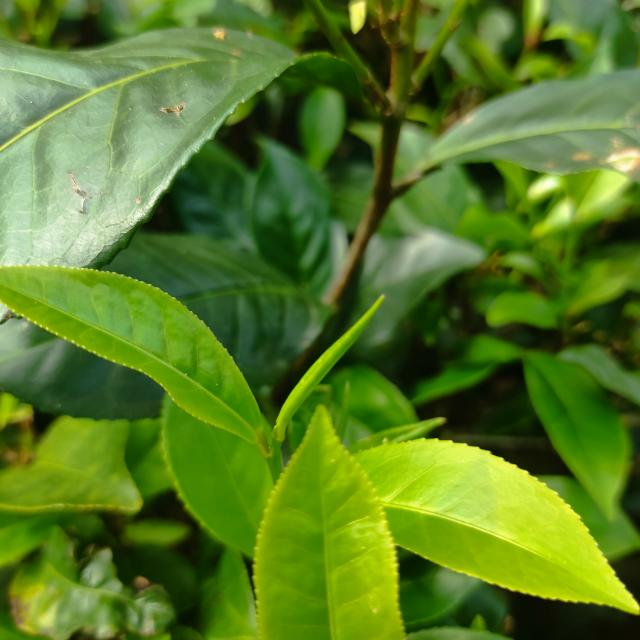unopened_leaf: (266, 287, 393, 446)
